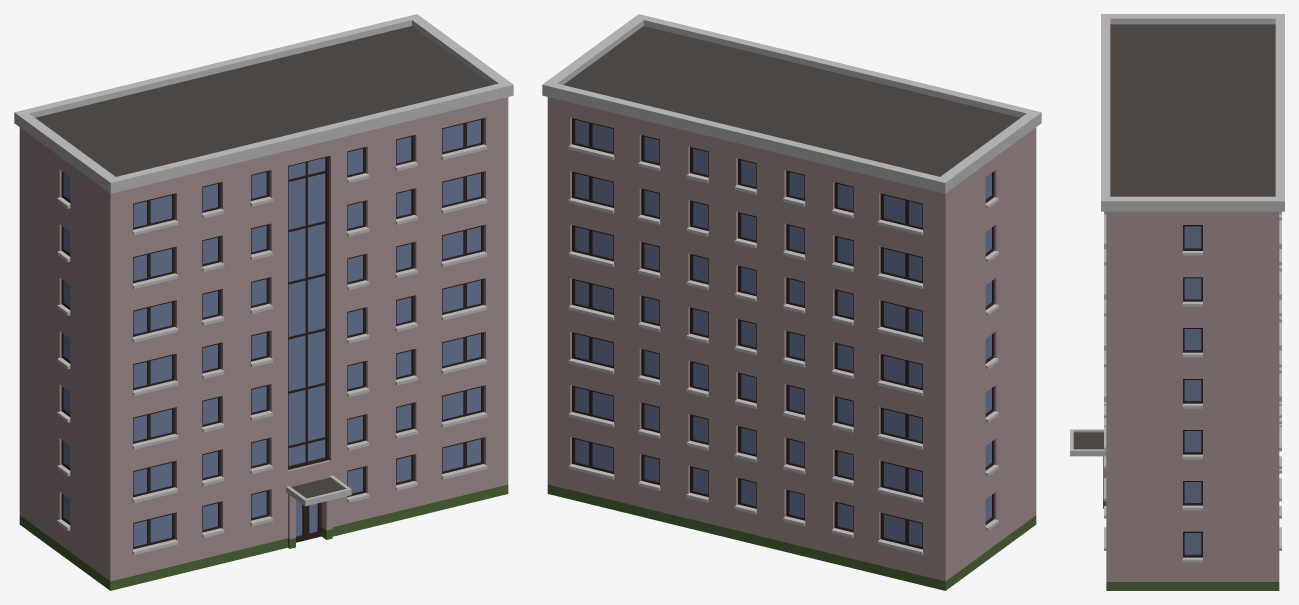
The model's file is ApartmentBuilding_14.fbx.
3 renders of one model, left to right at view 1: azimuth 30°, elevation 25°; view 2: azimuth 150°, elevation 25°; view 3: azimuth 270°, elevation 25°, orthographic. The views are drawn at different scales.
Visible parts, largest first — view 1: ApartmentBuilding_14; view 2: ApartmentBuilding_14; view 3: ApartmentBuilding_14.
Boxes of the visible parts, x1,y1,x2,y2 form: ApartmentBuilding_14: [14, 14, 513, 590]; ApartmentBuilding_14: [542, 14, 1041, 590]; ApartmentBuilding_14: [1070, 14, 1284, 590].
Size of the model in its own units: 19.2 by 18.69 by 9.31.
